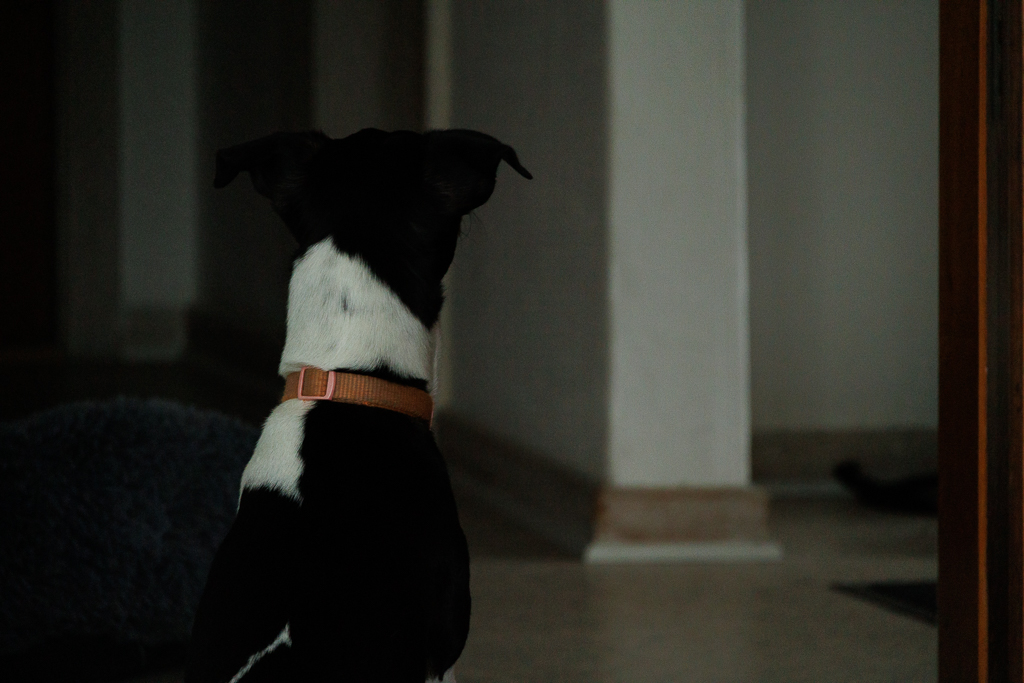Dog: (198, 109, 548, 683)
